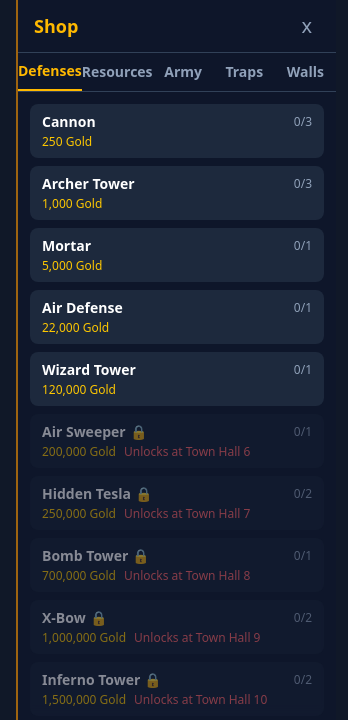
ShopPanel › disables trap items when max count is reached
Click the button "Traps": (244, 72) [214,53,275,91]
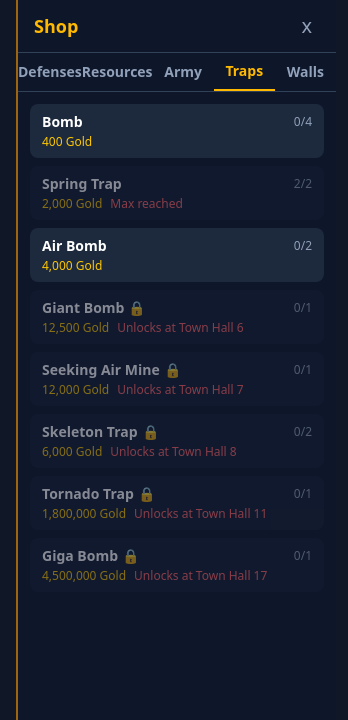
Expected: the button "Spring Trap" is disabled, [30,166,324,220]
